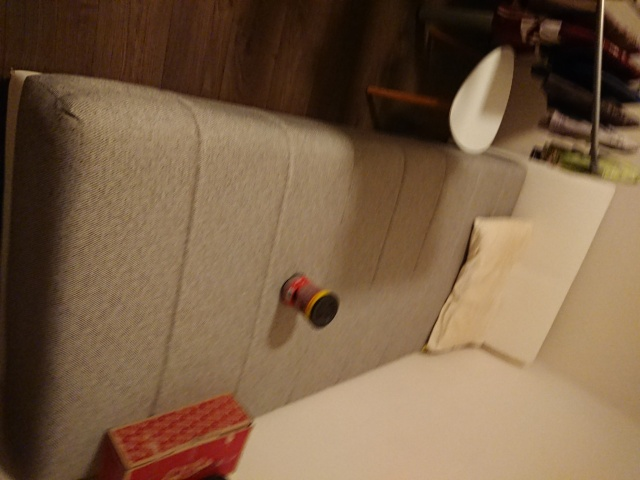Nescafe Classic 225g: (277, 271, 342, 332)
